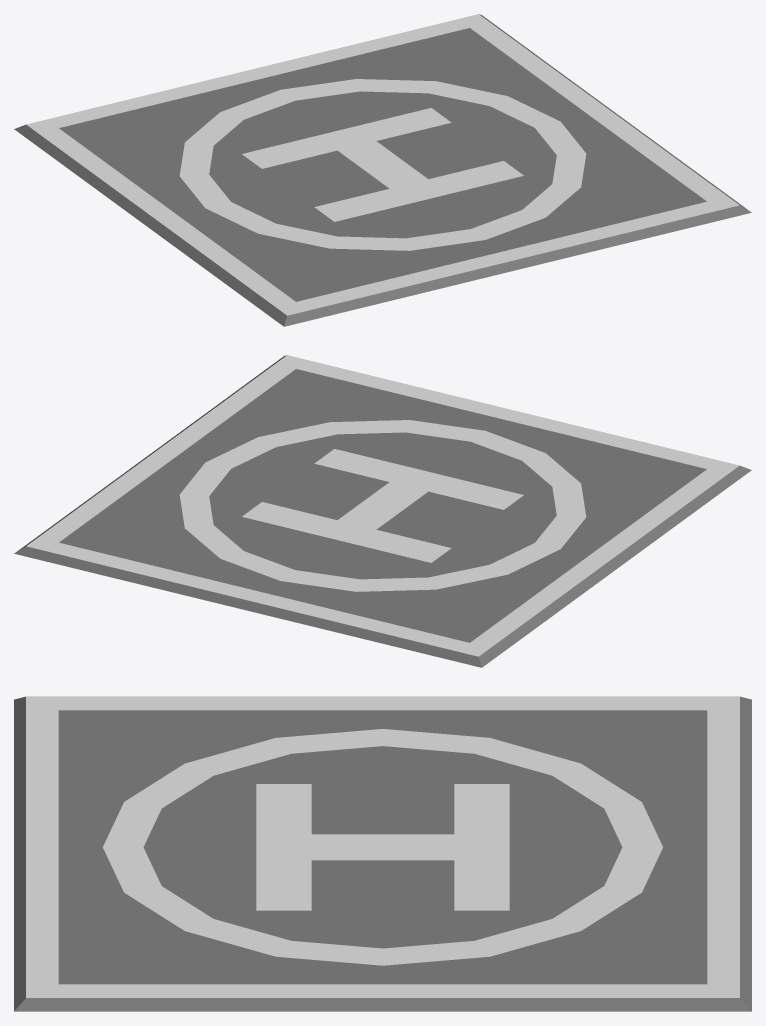
File: HeliLanding_1_A.glb
3 renders of one model, top to bottom at view 1: azimuth 30°, elevation 25°; view 2: azimuth 150°, elevation 25°; view 3: azimuth 270°, elevation 25°, orthographic. The views are drawn at different scales.
Visible parts, largest first — view 1: HeliLanding_1_A; view 2: HeliLanding_1_A; view 3: HeliLanding_1_A.
Part boxes in pixels (bbox=[...]): HeliLanding_1_A: bbox=[14, 14, 751, 326]; HeliLanding_1_A: bbox=[14, 355, 751, 667]; HeliLanding_1_A: bbox=[14, 696, 751, 1011].
Size of the model in its own units: 4.6 by 0.0567 by 4.6.
1 material, 1 textured.
